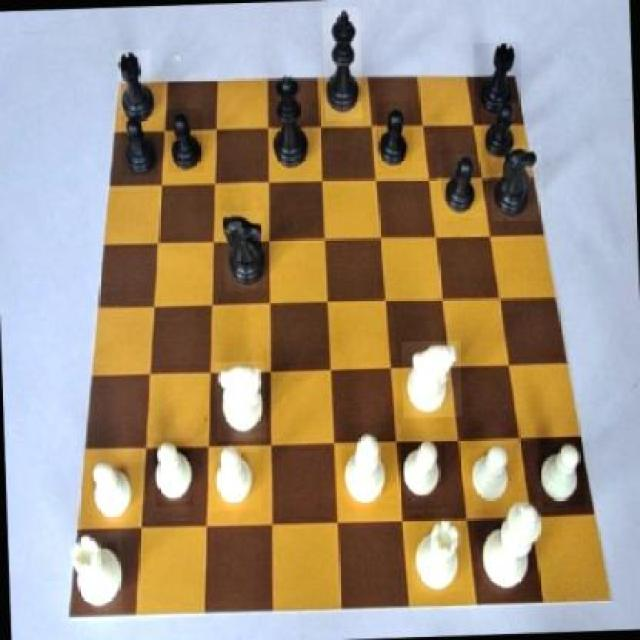black-bishop: (322, 8, 362, 120)
black-king: (490, 146, 544, 222), (223, 210, 268, 292)
black-knight: (437, 154, 483, 218), (480, 102, 522, 166), (377, 102, 414, 174), (166, 108, 204, 172), (120, 114, 158, 177)
black-pawn: (263, 72, 310, 172)
black-queen: (474, 41, 523, 128), (115, 49, 152, 125)
black-rook: (340, 423, 388, 511)
white-bishop: (477, 498, 546, 600)
white-king: (402, 338, 462, 418), (216, 360, 266, 440)
white-knight: (208, 444, 262, 512), (466, 440, 514, 510), (540, 437, 586, 509), (88, 450, 134, 522), (400, 440, 447, 509), (154, 438, 194, 508)
white-queen: (68, 530, 124, 618), (411, 520, 464, 593)
